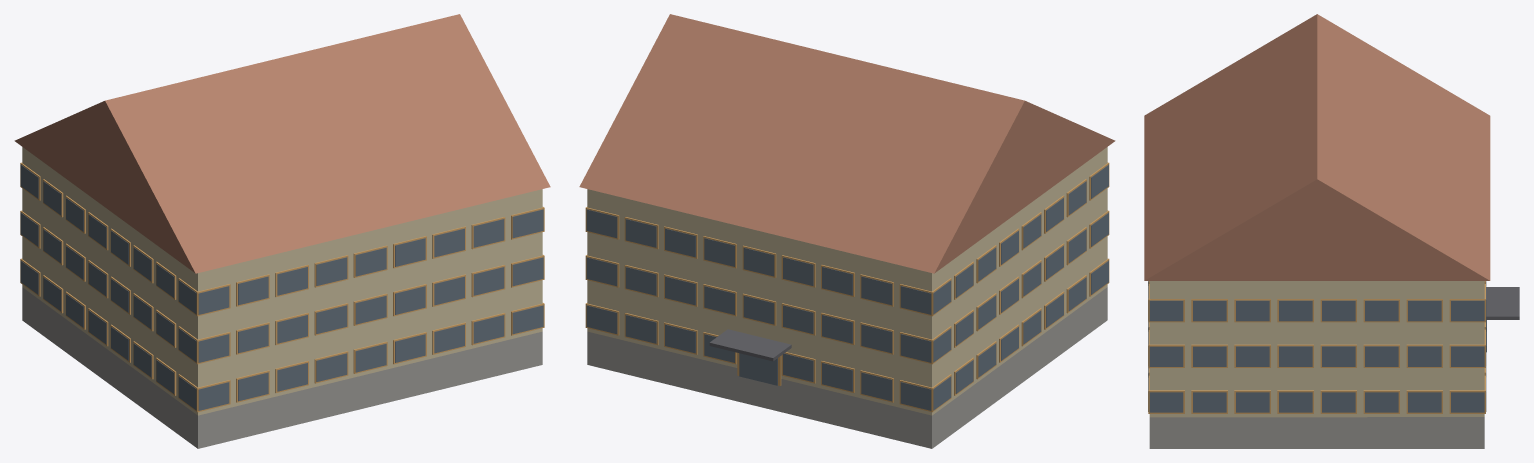
File: landmark-kindergarten-668713576.glb
The picture shows the model from 3 angles, left to right: view 1: azimuth 30°, elevation 25°; view 2: azimuth 150°, elevation 25°; view 3: azimuth 270°, elevation 25°; orthographic projection. The views are drawn at different scales.
Visible parts, largest first — view 1: building; view 2: building; view 3: building.
Boxes of the visible parts, x1,y1,x2,y2 form: building: [14, 14, 550, 448]; building: [579, 14, 1115, 448]; building: [1144, 14, 1519, 448].
Bounding box in the file's own units: 27.86 × 21.4 × 26.77.
